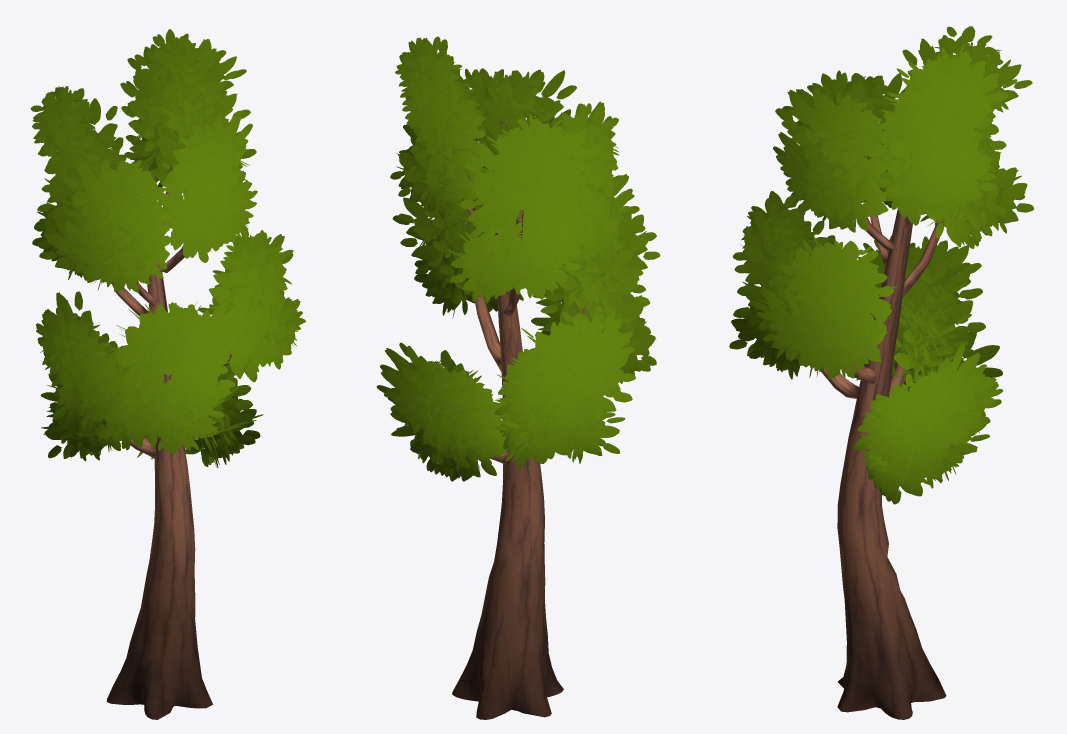
Rendered from CommonTree_3.glb.
3 views of the same model, side by side, from view 1: azimuth 30°, elevation 25°; view 2: azimuth 150°, elevation 25°; view 3: azimuth 270°, elevation 25° (orthographic). The views are drawn at different scales.
Visible parts, largest first — view 1: CommonTree_3; view 2: CommonTree_3; view 3: CommonTree_3.
Part boxes in pixels (box(x1,y1,x2,y2)): CommonTree_3: box(30, 29, 305, 719); CommonTree_3: box(376, 36, 660, 719); CommonTree_3: box(729, 26, 1033, 719).
Size of the model in its own units: 4.06 by 9.43 by 4.24.
Materials: 2 (2 with a texture image).
